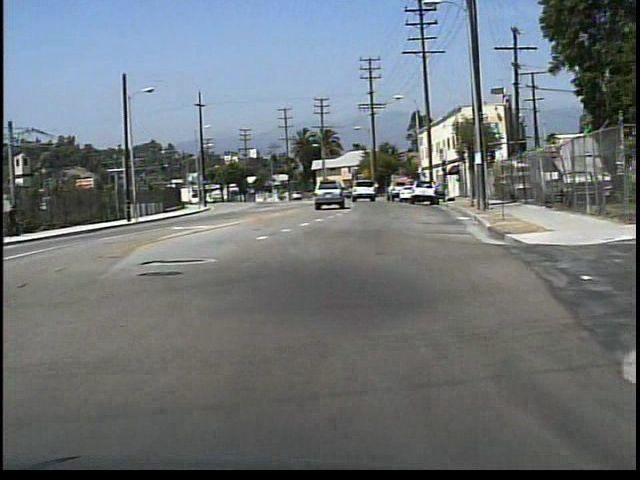person: (10, 201, 28, 240)
